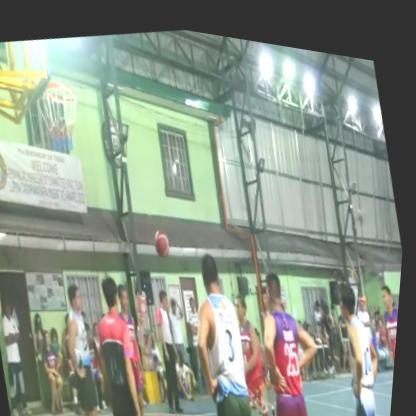basketball: (151, 217, 179, 258)
rim: (27, 59, 96, 169)
